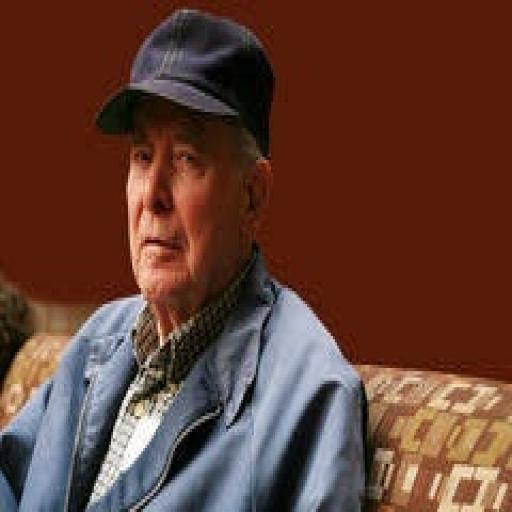sitting: (2, 6, 373, 509)
